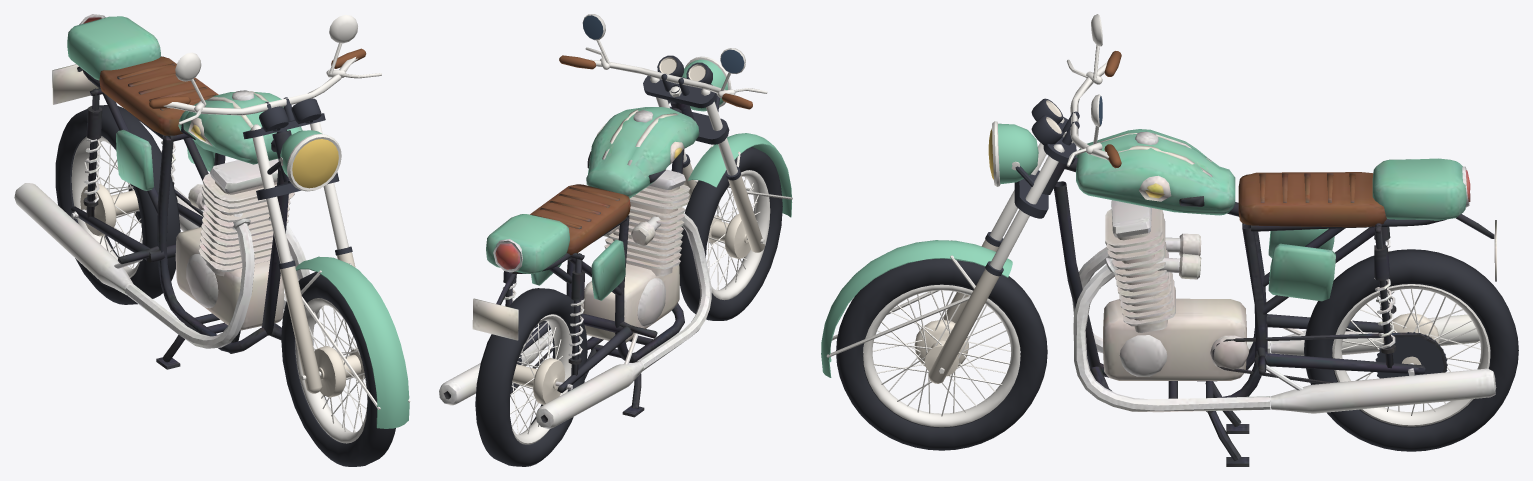
Rendered from g3-motorcycle.glb.
3 views of the same model, side by side, from view 1: azimuth 30°, elevation 25°; view 2: azimuth 150°, elevation 25°; view 3: azimuth 270°, elevation 25° (orthographic). The views are drawn at different scales.
Parts seen in each view (by area): view 1: motorcycle_body, motorcycle_steering, motorcycle_wheel_front, motorcycle_wheel_rear; view 2: motorcycle_body, motorcycle_wheel_rear, motorcycle_steering, motorcycle_wheel_front; view 3: motorcycle_body, motorcycle_wheel_front, motorcycle_wheel_rear, motorcycle_steering.
Part boxes in pixels (<box>): motorcycle_body: <box>14,14,319,369</box>; motorcycle_steering: <box>149,15,410,428</box>; motorcycle_wheel_front: <box>281,272,395,466</box>; motorcycle_wheel_rear: <box>55,105,180,304</box>; motorcycle_body: <box>439,101,711,428</box>; motorcycle_wheel_rear: <box>475,288,587,466</box>; motorcycle_steering: <box>559,14,792,252</box>; motorcycle_wheel_front: <box>679,147,782,320</box>; motorcycle_body: <box>1042,129,1496,466</box>; motorcycle_wheel_front: <box>836,258,1047,450</box>; motorcycle_wheel_rear: <box>1304,249,1518,451</box>; motorcycle_steering: <box>821,14,1121,383</box>.
Size of the model in its own units: 0.7964 by 1.31 by 2.11.
Materials: 17 (1 with a texture image).
